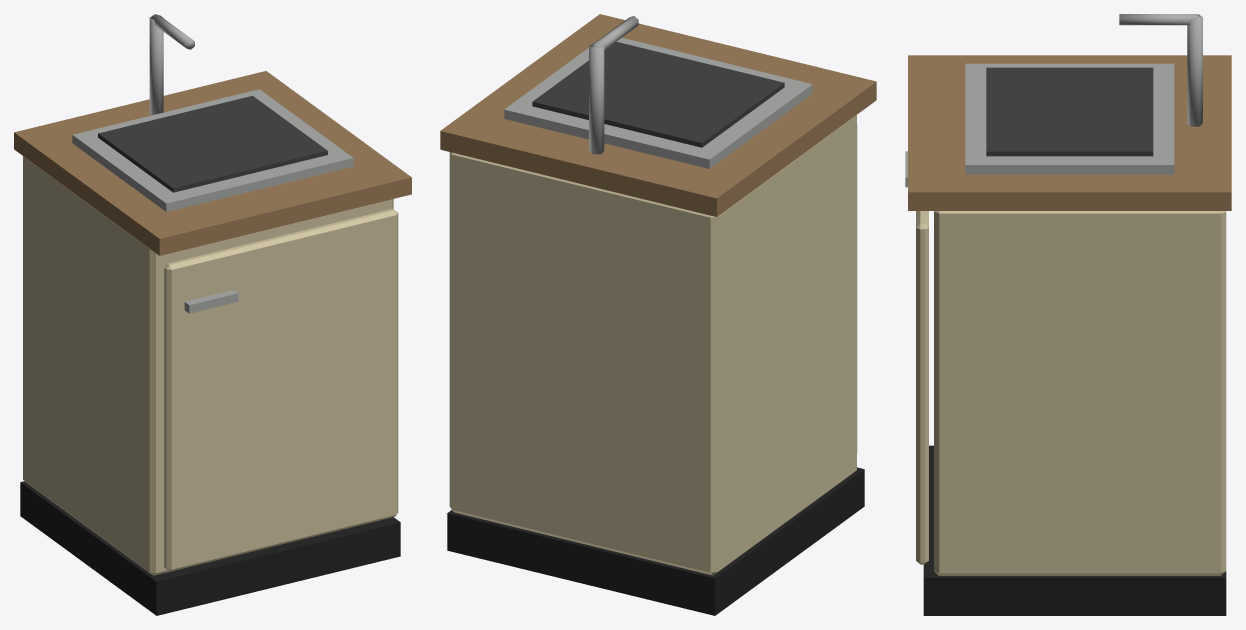
File: kitchen_sink.glb
3 views of the same model, side by side, from view 1: azimuth 30°, elevation 25°; view 2: azimuth 150°, elevation 25°; view 3: azimuth 270°, elevation 25° (orthographic). The views are drawn at different scales.
Visible parts, largest first — view 1: KitchenSink, anim_door_L; view 2: KitchenSink; view 3: KitchenSink, anim_door_L.
Part boxes in pixels (left/top/right/bottom): KitchenSink: left=14, top=14, right=411, bottom=615; anim_door_L: left=164, top=208, right=398, bottom=571; KitchenSink: left=440, top=14, right=876, bottom=615; KitchenSink: left=908, top=14, right=1231, bottom=615; anim_door_L: left=905, top=151, right=928, bottom=564.
Size of the model in its own units: 0.62 by 1.13 by 0.625.
